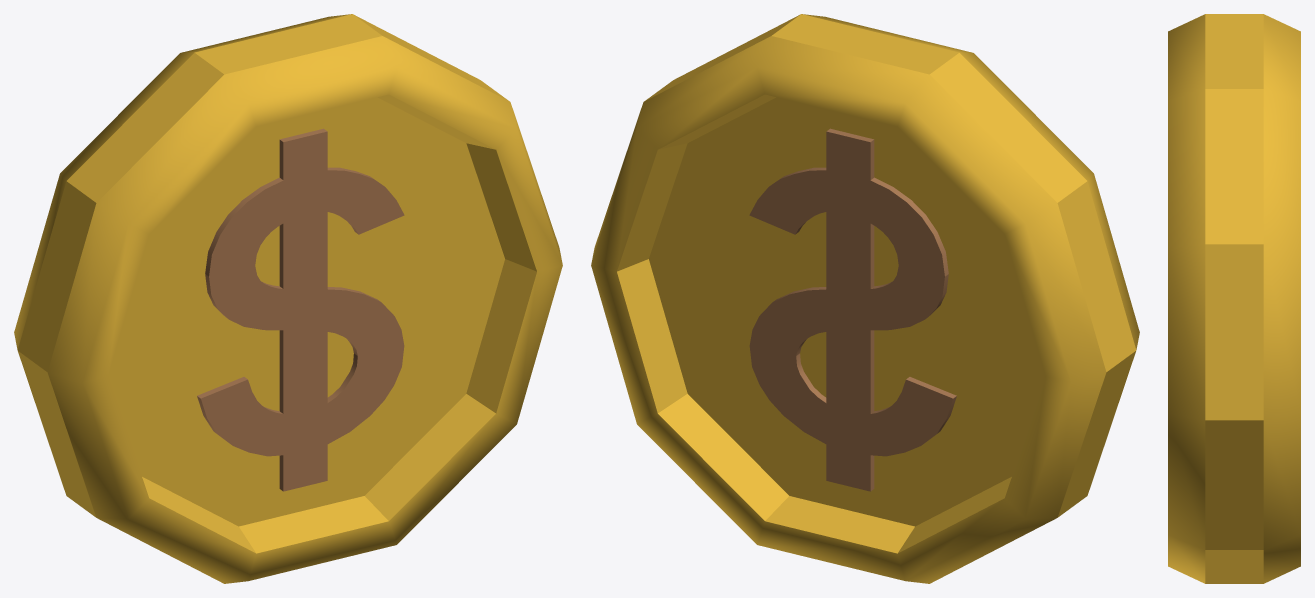
Rendered from Coin1 (1).fbx.
The picture shows the model from 3 angles, left to right: view 1: azimuth 30°, elevation 25°; view 2: azimuth 150°, elevation 25°; view 3: azimuth 270°, elevation 25°; orthographic projection. The views are drawn at different scales.
Visible parts, largest first — view 1: BigPart, MoneySign; view 2: BigPart, MoneySign; view 3: BigPart.
Boxes of the visible parts, <box> form: BigPart: <box>14,14,562,583</box>; MoneySign: <box>197,128,404,491</box>; BigPart: <box>591,14,1139,583</box>; MoneySign: <box>749,128,956,491</box>; BigPart: <box>1168,14,1300,583</box>.
Bounding box in the file's own units: 2.51 × 2.39 × 0.5824.
